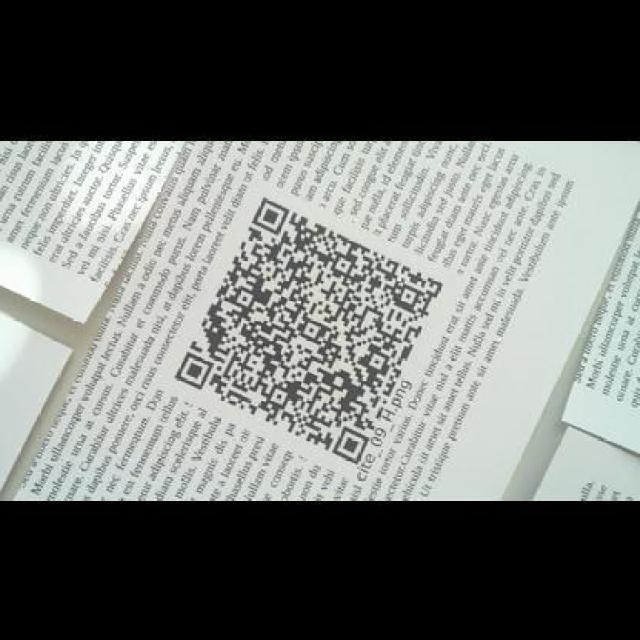QRCode: (170, 192, 449, 468)
